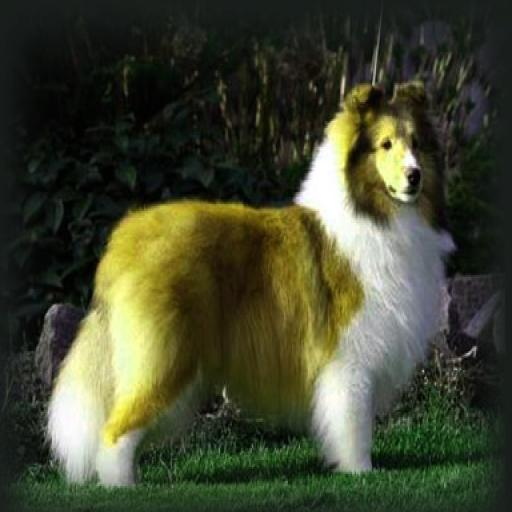dog_face: (344, 79, 435, 210)
